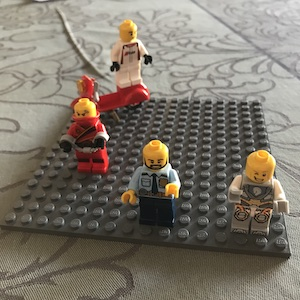Lego: (226, 148, 288, 235), (126, 141, 181, 229), (61, 98, 108, 175), (109, 19, 147, 90)
